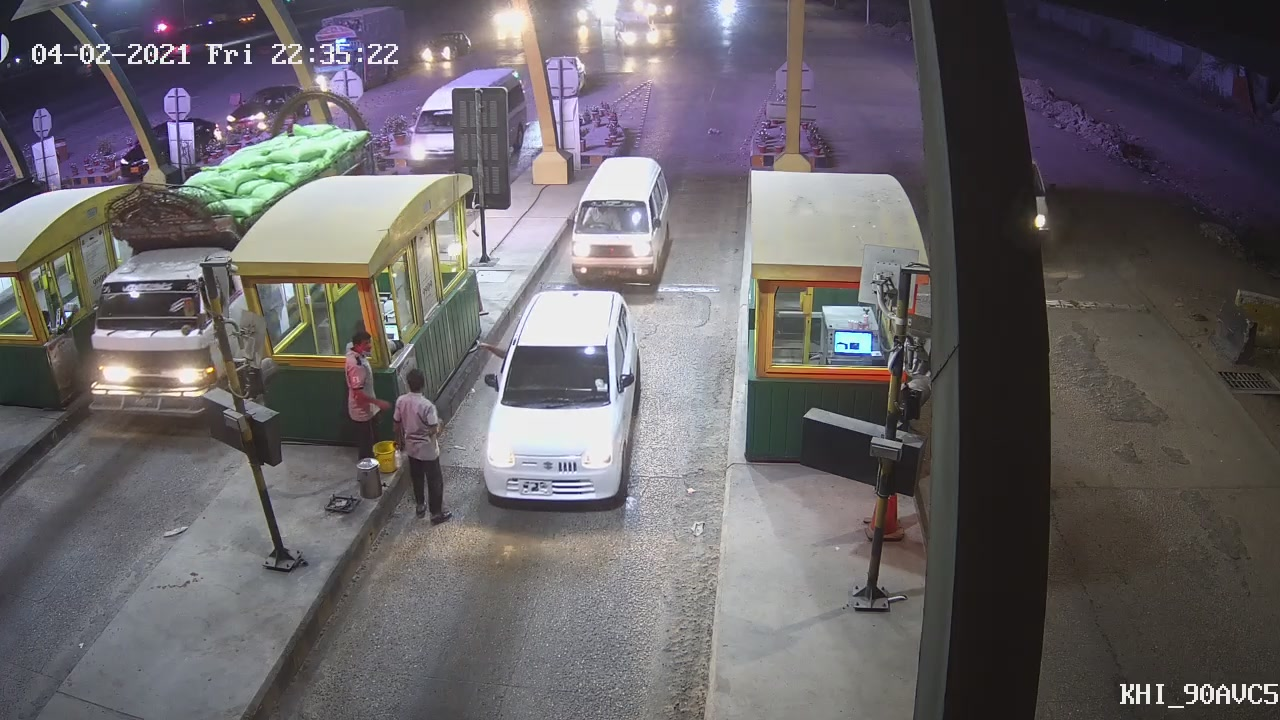F1: (480, 286, 649, 507)
F2: (570, 154, 677, 287)
